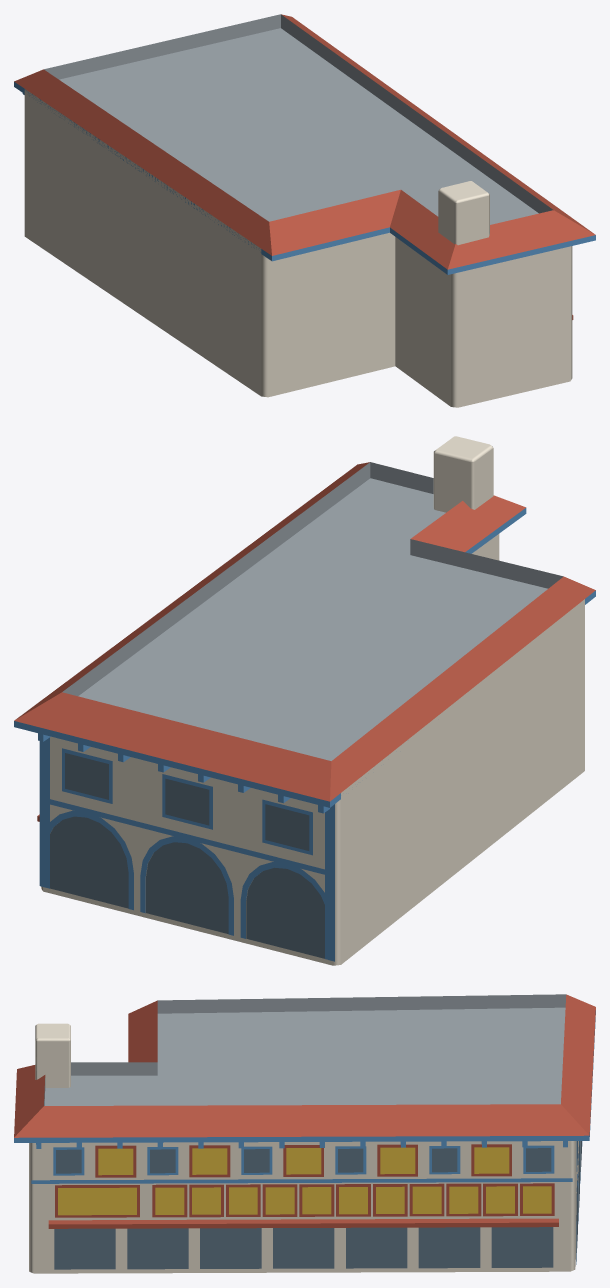
The model's file is nyc-coney-island-usa.glb.
3 renders of one model, top to bottom at view 1: azimuth 30°, elevation 25°; view 2: azimuth 150°, elevation 25°; view 3: azimuth 270°, elevation 25°, orthographic. The views are drawn at different scales.
Visible parts, largest first — view 1: Coney Island USA; view 2: Coney Island USA; view 3: Coney Island USA.
Boxes of the visible parts, x1=… form: Coney Island USA: x1=14, y1=14, x2=595, y2=407; Coney Island USA: x1=14, y1=436, x2=595, y2=965; Coney Island USA: x1=14, y1=994, x2=595, y2=1273.
Bounding box in the file's own units: 18.97 × 13.3 × 35.64.
